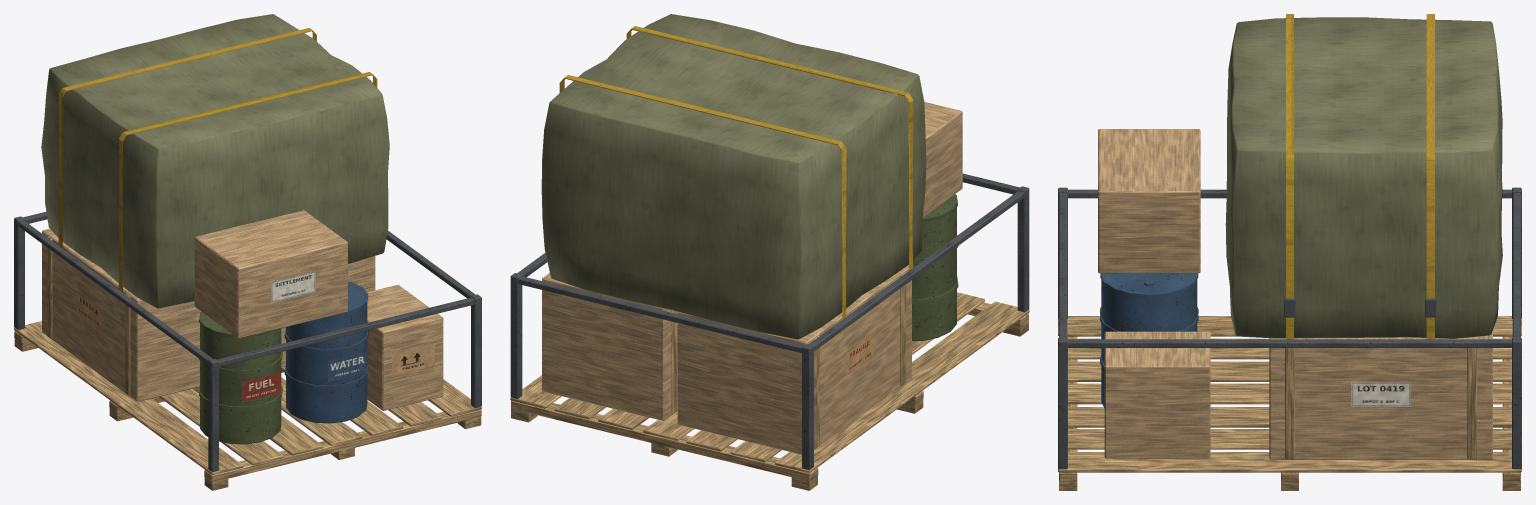
File: cargo_stack_large_olive.gltf
3 renders of one model, left to right at view 1: azimuth 30°, elevation 25°; view 2: azimuth 150°, elevation 25°; view 3: azimuth 270°, elevation 25°, orthographic. The views are drawn at different scales.
Parts seen in each view (by area): view 1: StackLarge_Body; view 2: StackLarge_Body; view 3: StackLarge_Body.
Part boxes in pixels (x1=…): StackLarge_Body: x1=14, y1=14, x2=481, y2=490; StackLarge_Body: x1=510, y1=14, x2=1029, y2=490; StackLarge_Body: x1=1058, y1=14, x2=1521, y2=490.
Bounding box in the file's own units: 2.2 × 2.2 × 2.8.
8 materials, 8 textured.
